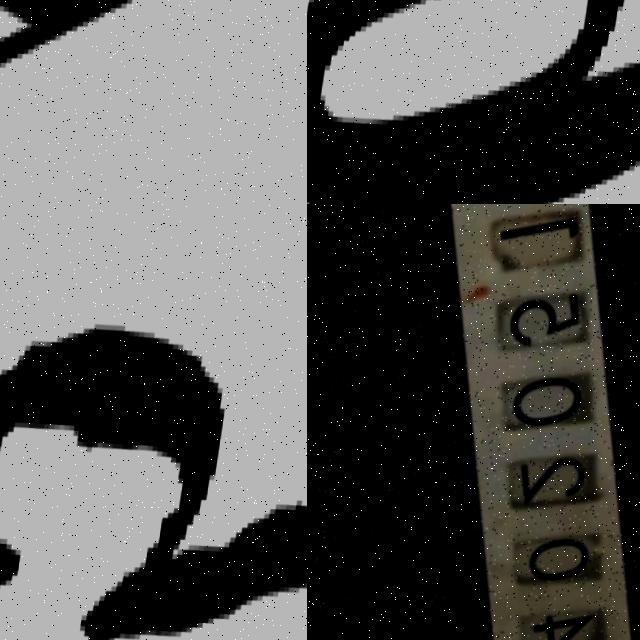0: (495, 362, 605, 451), (515, 526, 615, 604)
1: (488, 204, 596, 289)
2: (508, 445, 608, 526)
4: (517, 599, 621, 640)
5: (0, 204, 307, 640), (494, 282, 600, 368)
6: (307, 0, 640, 204)
A: (0, 0, 289, 204)
